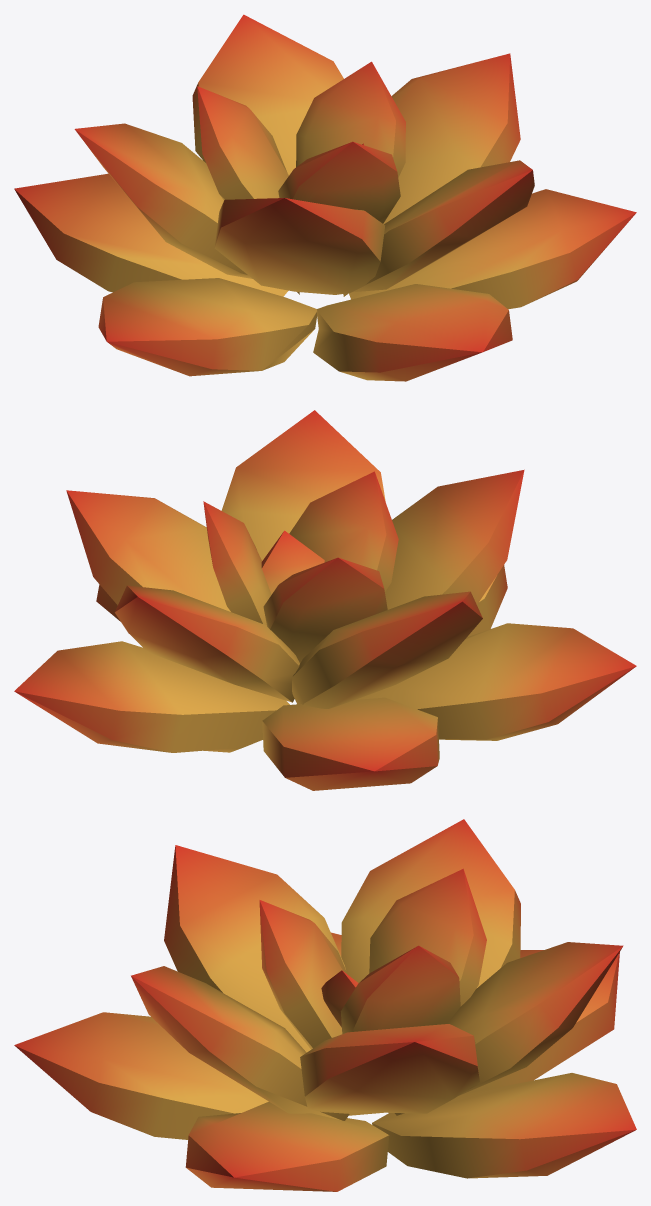
3 renders of one model, top to bottom at view 1: azimuth 30°, elevation 25°; view 2: azimuth 150°, elevation 25°; view 3: azimuth 270°, elevation 25°, orthographic. The views are drawn at different scales.
Visible parts, largest first — view 1: LOD 1_16967760880170184947_4f521bcaeda9b9647b799715f43ad4b9; view 2: LOD 1_16967760880170184947_4f521bcaeda9b9647b799715f43ad4b9; view 3: LOD 1_16967760880170184947_4f521bcaeda9b9647b799715f43ad4b9.
Part boxes in pixels (left/top/right/bottom): LOD 1_16967760880170184947_4f521bcaeda9b9647b799715f43ad4b9: left=14, top=14, right=636, bottom=381; LOD 1_16967760880170184947_4f521bcaeda9b9647b799715f43ad4b9: left=14, top=410, right=636, bottom=790; LOD 1_16967760880170184947_4f521bcaeda9b9647b799715f43ad4b9: left=14, top=819, right=636, bottom=1191.
Size of the model in its own units: 0.8955 by 0.3434 by 0.8664.
